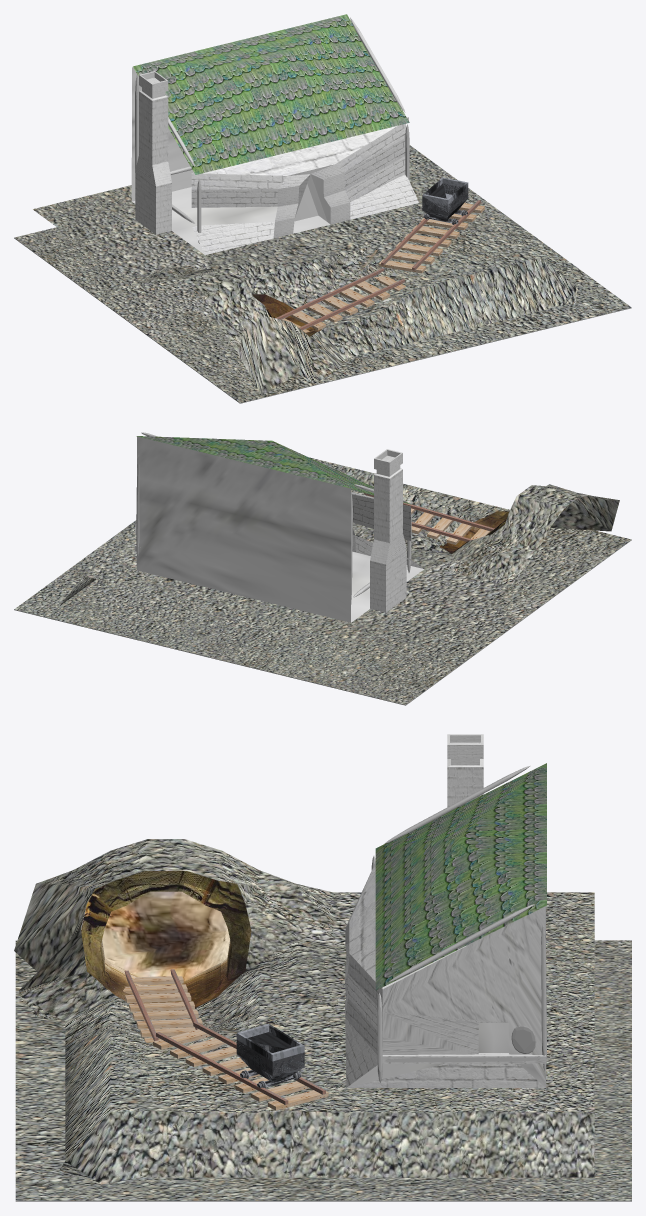
Rendered from ELF_MINE.fbx.
3 renders of one model, top to bottom at view 1: azimuth 30°, elevation 25°; view 2: azimuth 150°, elevation 25°; view 3: azimuth 270°, elevation 25°, orthographic. The views are drawn at different scales.
Visible parts, largest first — view 1: Cubo, Tejado, Casa, Chimenea, Listones2, casamadera, Carrito, listones1, Vias.001, Vias, Agujero; view 2: Cubo, Casa, Chimenea, Tejado, casamadera, listones1, Agujero, Vias.001; view 3: Cubo, Casa, Tejado, Agujero, casamadera, Carrito, Listones2, listones1, Chimenea, Vias, Vias.001.
Part boxes in pixels (box(x1,y1,x2,y2)): Cubo: box(14, 145, 631, 403); Tejado: box(133, 14, 409, 174); Casa: box(131, 67, 418, 254); Chimenea: box(135, 71, 171, 234); Listones2: box(378, 203, 485, 273); casamadera: box(135, 17, 409, 243); Carrito: box(422, 177, 468, 224); listones1: box(282, 276, 405, 332); Vias.001: box(276, 268, 405, 330); Vias: box(381, 200, 480, 270); Agujero: box(194, 290, 321, 336); Cubo: box(14, 457, 631, 705); Casa: box(134, 436, 423, 622); Chimenea: box(370, 449, 406, 612); Tejado: box(136, 436, 411, 504); casamadera: box(135, 432, 411, 599); listones1: box(367, 495, 489, 544); Agujero: box(440, 507, 567, 553); Vias.001: box(364, 493, 494, 541); Cubo: box(14, 839, 631, 1201); Casa: box(345, 862, 545, 1087); Tejado: box(375, 763, 546, 990); Agujero: box(81, 871, 251, 1011); casamadera: box(371, 765, 546, 1082); Carrito: box(236, 1023, 304, 1088); Listones2: box(153, 1029, 328, 1110); listones1: box(123, 976, 202, 1042); Chimenea: box(447, 734, 492, 945); Vias: box(156, 1021, 325, 1104); Vias.001: box(124, 969, 198, 1041).
Size of the model in its own units: 1121 by 509 by 1124.
